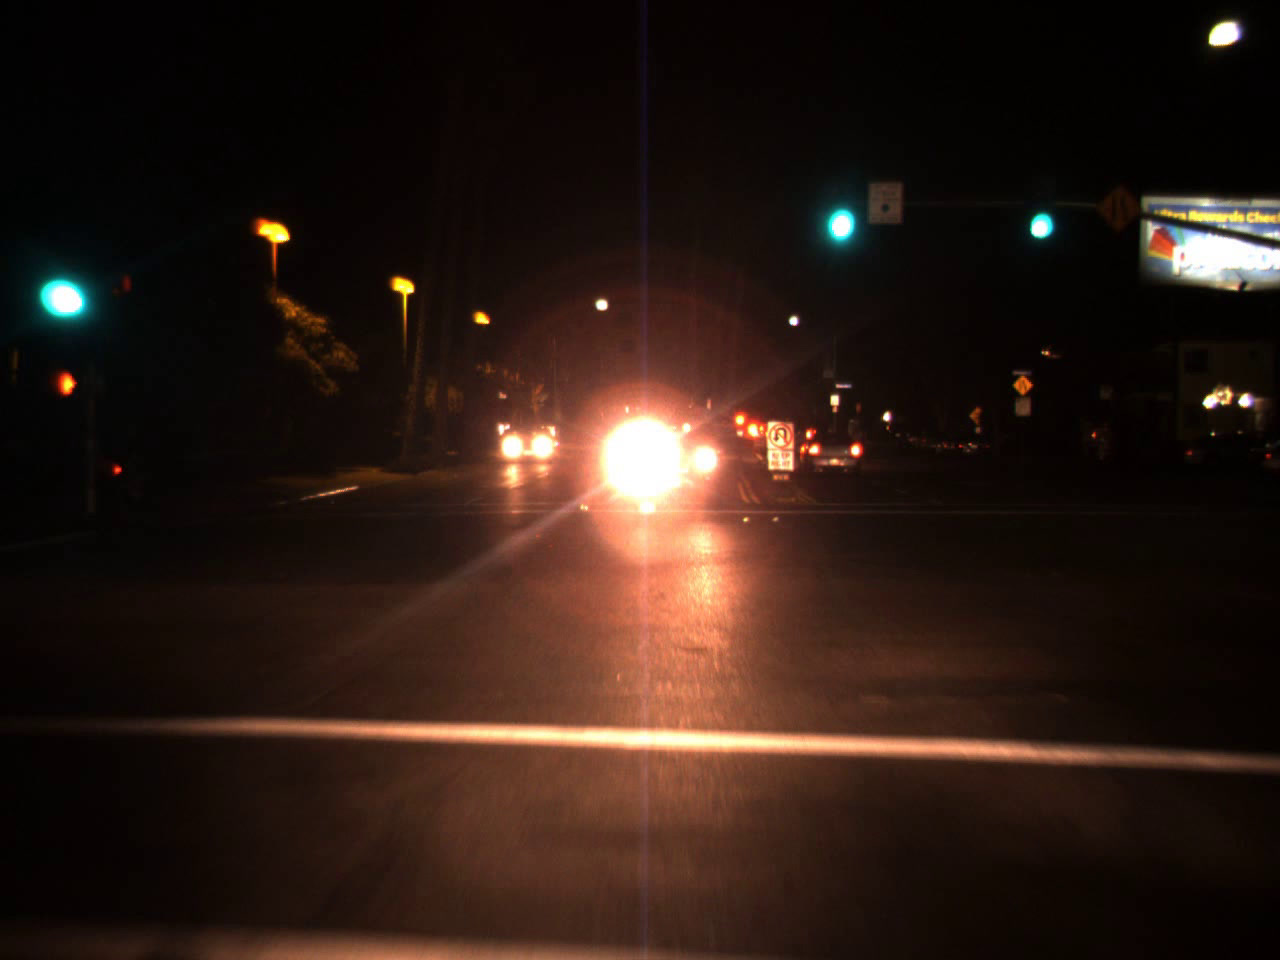go: (815, 167, 861, 254), (37, 247, 87, 325), (1022, 183, 1058, 246)
